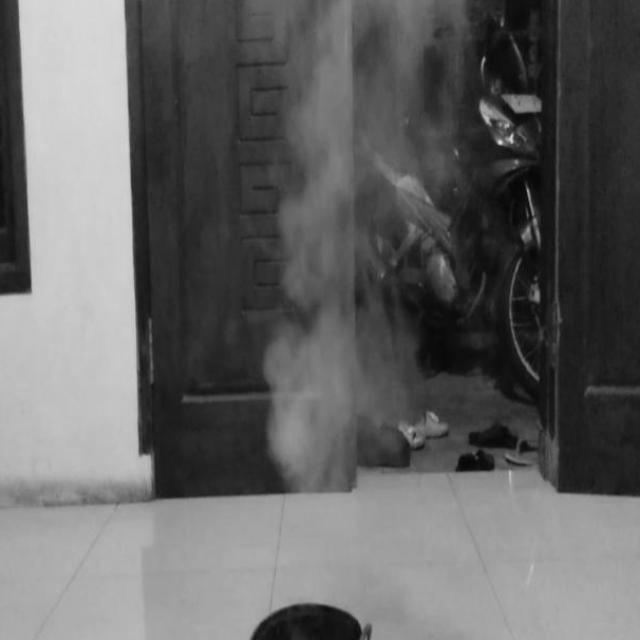fire: (268, 0, 454, 491)
